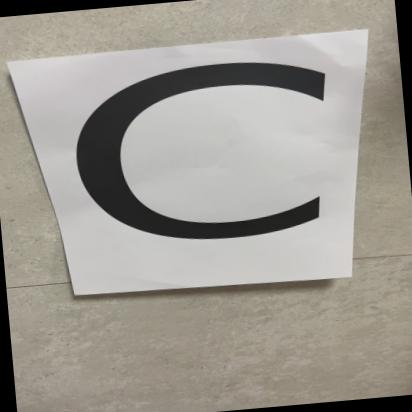seat: (24, 33, 358, 306)
